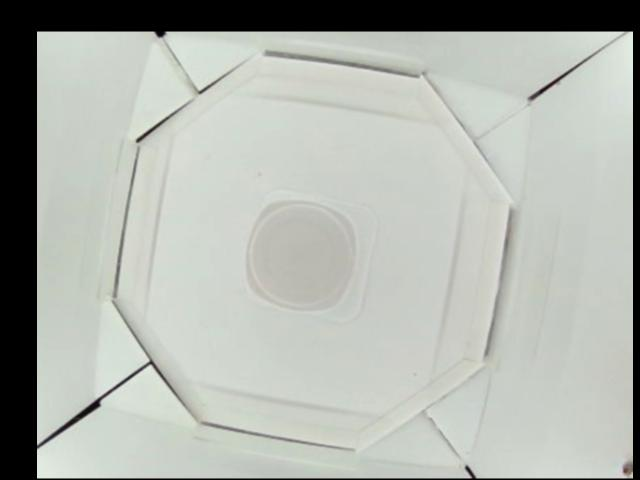Cup: (242, 190, 375, 322)
